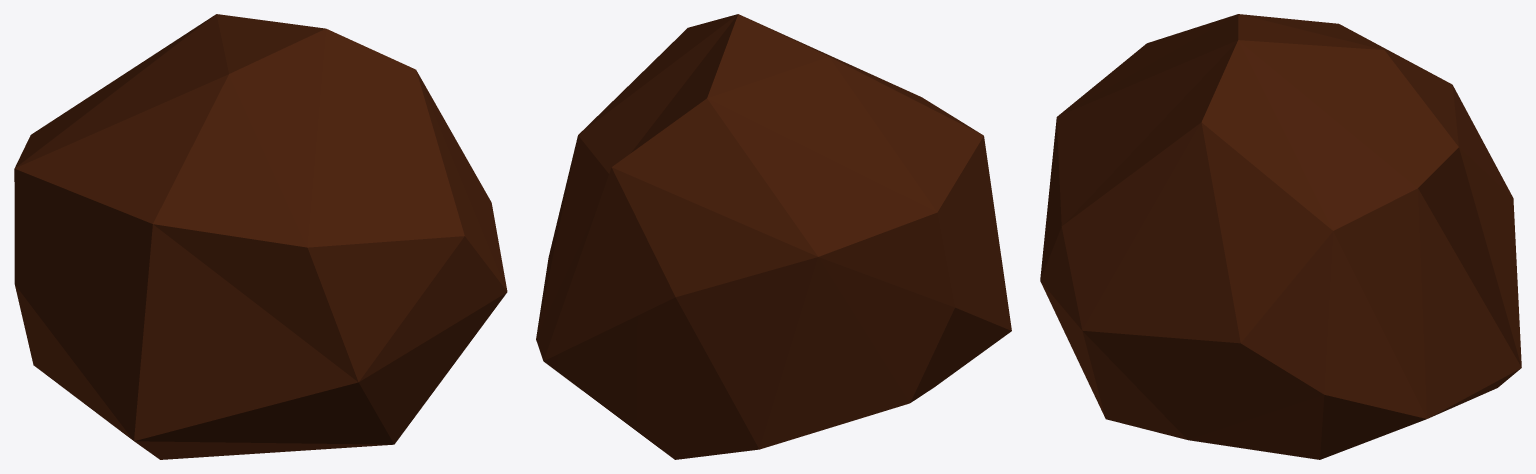
The model's file is ENV_FL_Stone_Big_01.FBX.
3 views of the same model, side by side, from view 1: azimuth 30°, elevation 25°; view 2: azimuth 150°, elevation 25°; view 3: azimuth 270°, elevation 25° (orthographic). The views are drawn at different scales.
Visible parts, largest first — view 1: ENV_FL_Stone_Big_01; view 2: ENV_FL_Stone_Big_01; view 3: ENV_FL_Stone_Big_01.
Part boxes in pixels (<box>): ENV_FL_Stone_Big_01: <box>14,14,507,459</box>; ENV_FL_Stone_Big_01: <box>536,14,1011,459</box>; ENV_FL_Stone_Big_01: <box>1040,14,1521,459</box>.
Bounding box in the file's own units: 45.93 × 36.99 × 42.78.
